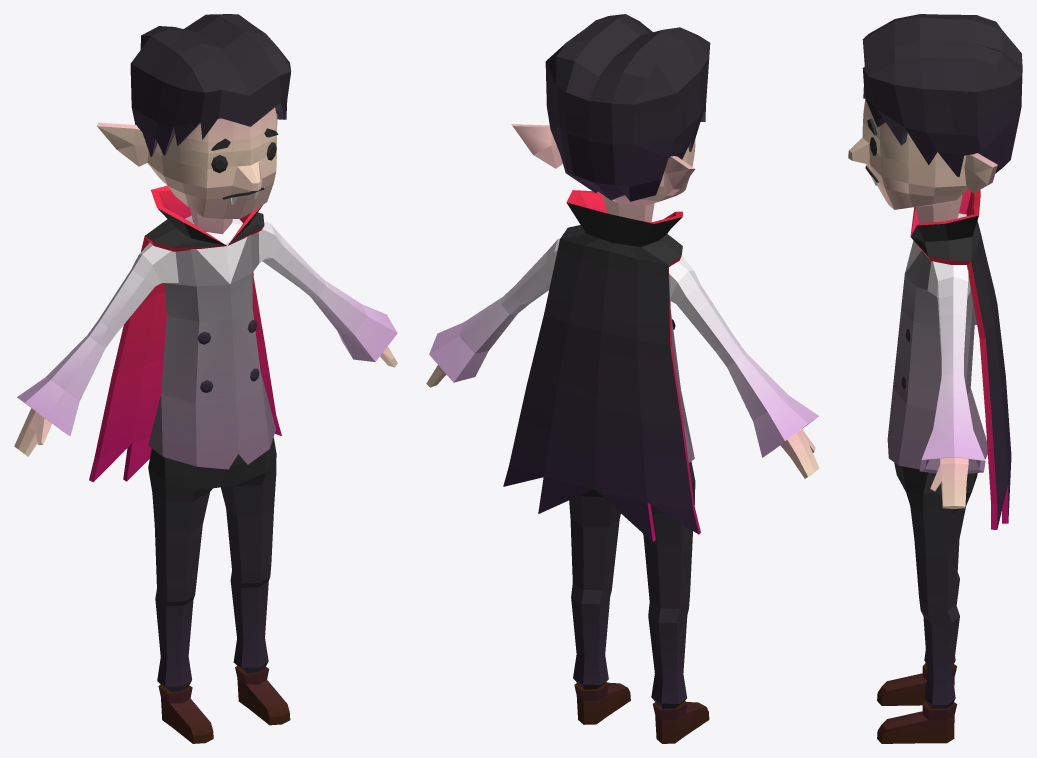
Rendered from pibito.fbx.
3 views of the same model, side by side, from view 1: azimuth 30°, elevation 25°; view 2: azimuth 150°, elevation 25°; view 3: azimuth 270°, elevation 25° (orthographic). The views are drawn at different scales.
Parts seen in each view (by area): view 1: cuerpo, pelo, capa; view 2: capa, cuerpo, pelo; view 3: cuerpo, pelo, capa.
Boxes of the visible parts, x1=… form: cuerpo: x1=14, y1=107, x2=397, y2=743; pelo: x1=130, y1=14, x2=291, y2=156; capa: x1=89, y1=185, x2=281, y2=482; capa: x1=503, y1=190, x2=700, y2=541; cuerpo: x1=426, y1=124, x2=819, y2=743; pelo: x1=545, y1=14, x2=710, y2=201; cuerpo: x1=848, y1=99, x2=997, y2=743; pelo: x1=862, y1=14, x2=1022, y2=177; capa: x1=910, y1=188, x2=1011, y2=529.
Size of the model in its own units: 82.65 by 143 by 32.79.
Materials: 1 (1 with a texture image).
